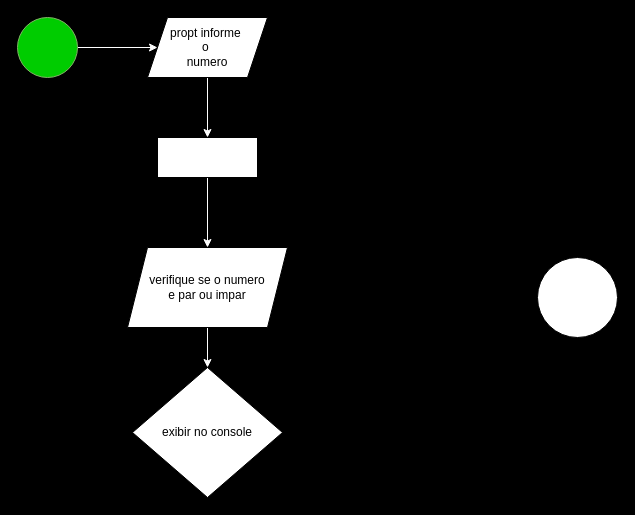
Some shapes in this 635 by 515 pixel diagram are drawn without their labels. The centre of each missing label's shape, as x and y in pixels:
inicio: the point at 47,47
ler numero: the point at 207,157
